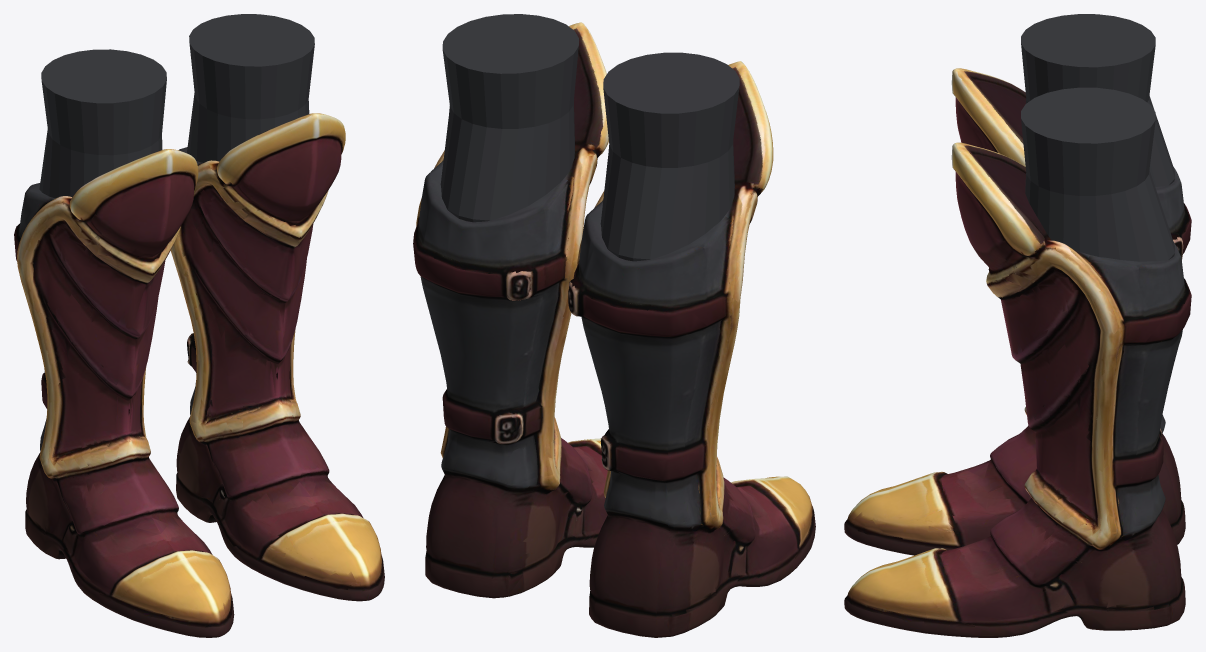
File: f_dragonia.glb
The picture shows the model from 3 angles, left to right: view 1: azimuth 30°, elevation 25°; view 2: azimuth 150°, elevation 25°; view 3: azimuth 270°, elevation 25°; orthographic projection. The views are drawn at different scales.
Parts seen in each view (by area): view 1: LegR_Greave, LegL_Greave, LegL_BootFoot, LegR_BootFoot, LegR_KneeWrap, LegL_KneeWrap; view 2: LegR_Greave, LegL_Greave, LegR_KneeWrap, LegL_KneeWrap, LegR_BootFoot, LegL_BootFoot; view 3: LegL_Greave, LegL_BootFoot, LegL_KneeWrap, LegR_BootFoot, LegR_KneeWrap, LegR_Greave.
Boxes of the visible parts, left/top/right/bottom form: LegR_Greave: left=14, top=149, right=198, bottom=517; LegL_Greave: left=170, top=113, right=345, bottom=480; LegL_BootFoot: left=176, top=401, right=384, bottom=601; LegR_BootFoot: left=25, top=436, right=234, bottom=637; LegR_KneeWrap: left=39, top=49, right=166, bottom=198; LegL_KneeWrap: left=187, top=14, right=314, bottom=162; LegR_Greave: left=568, top=61, right=773, bottom=559; LegL_Greave: left=413, top=22, right=608, bottom=519; LegR_KneeWrap: left=600, top=52, right=739, bottom=261; LegL_KneeWrap: left=440, top=14, right=578, bottom=222; LegR_BootFoot: left=589, top=476, right=815, bottom=637; LegL_BootFoot: left=425, top=438, right=607, bottom=598; LegL_Greave: left=951, top=142, right=1191, bottom=559; LegL_BootFoot: left=844, top=507, right=1185, bottom=637; LegL_KneeWrap: left=1021, top=87, right=1174, bottom=261; LegR_BootFoot: left=844, top=431, right=1185, bottom=555; LegR_KneeWrap: left=1021, top=14, right=1174, bottom=186; LegR_Greave: left=951, top=68, right=1191, bottom=479.
Bounding box in the file's own units: 0.3831 × 0.5911 × 0.3752.
Materials: 2 (1 with a texture image).
